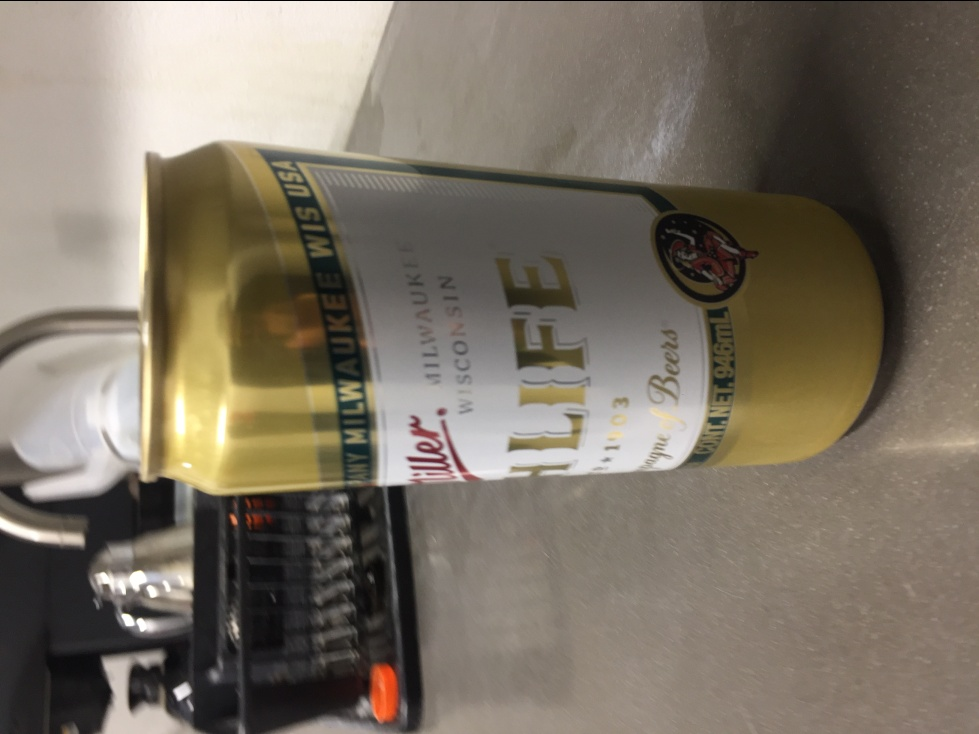miller: (132, 133, 888, 496)
